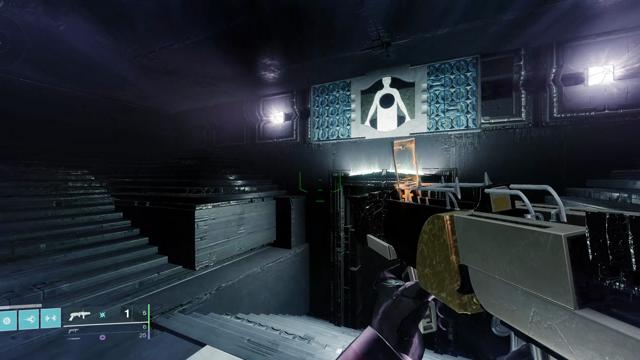grief: (360, 77, 415, 131)
